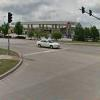Traffic light: (7, 9, 15, 28)
